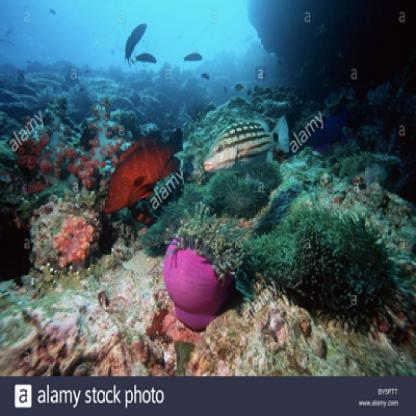Lutjanidae -Snappers-: (202, 107, 293, 187)
